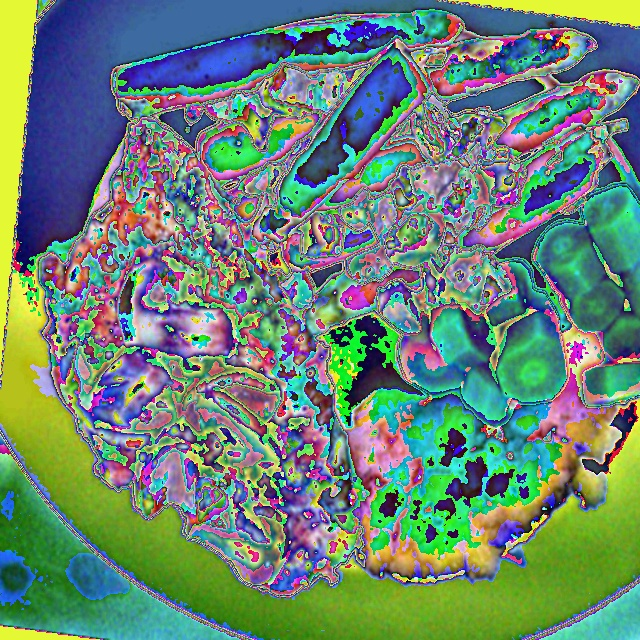background: (37, 9, 639, 598)
